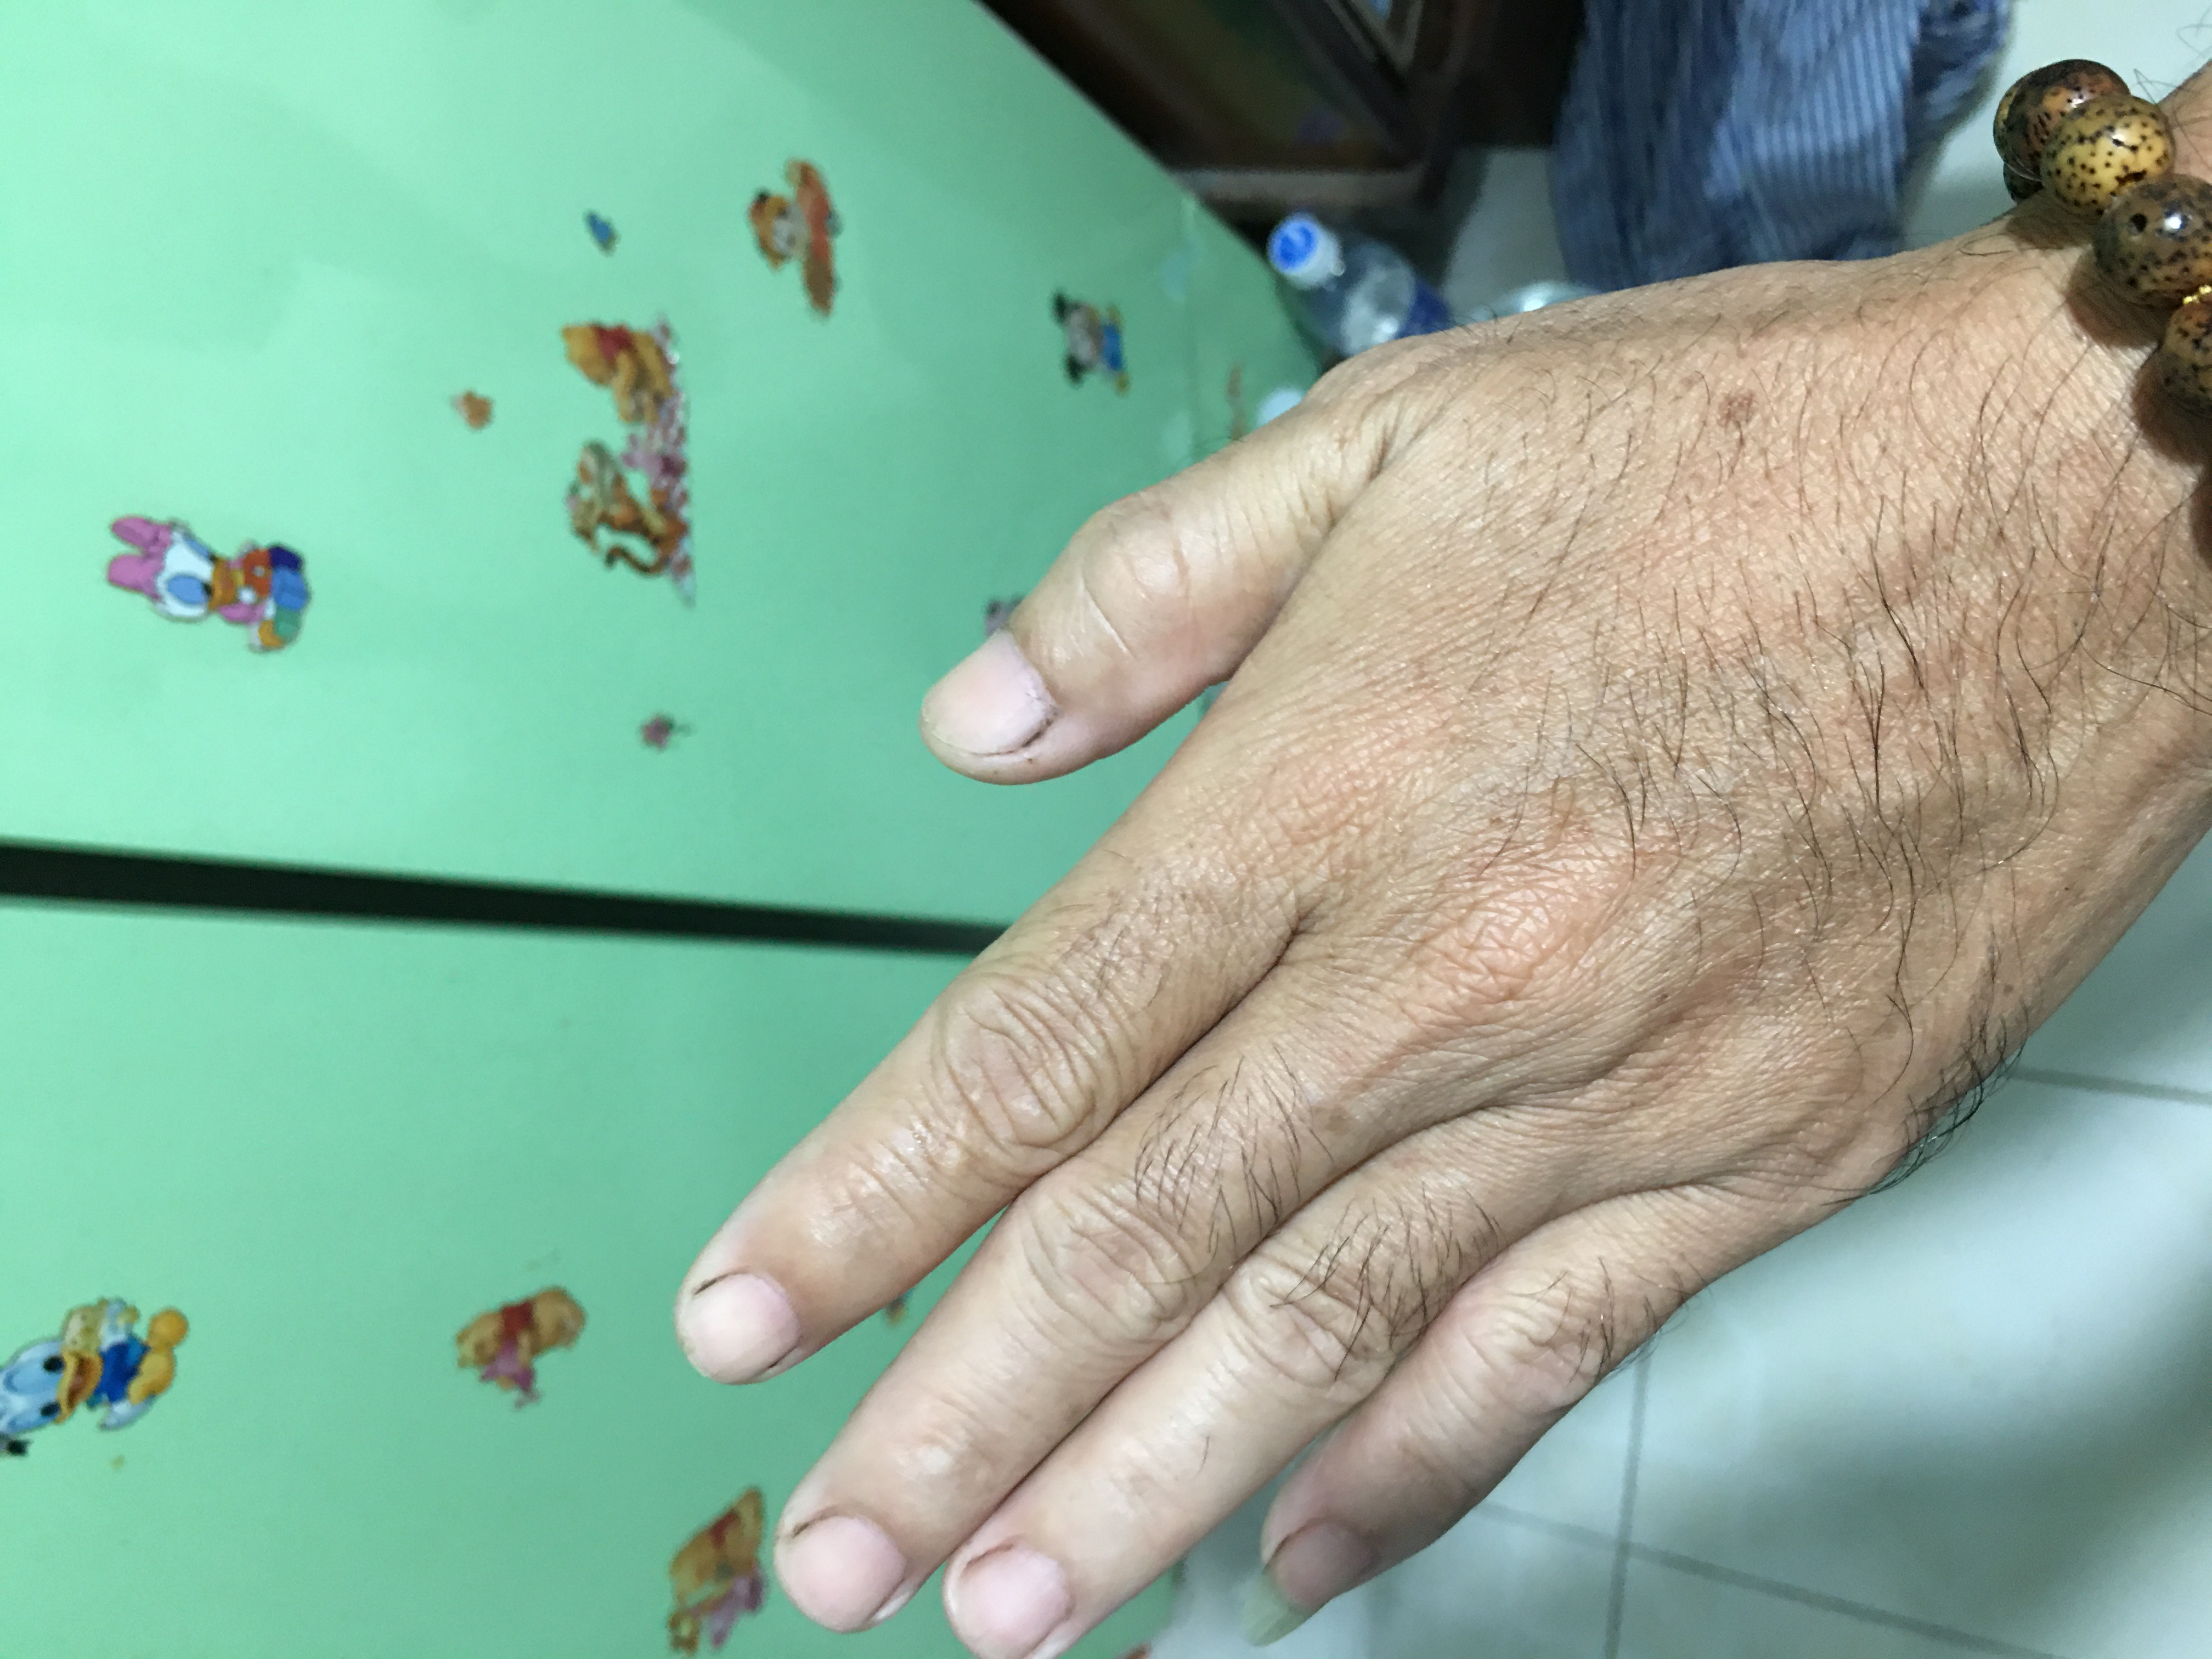nails: (909, 620, 1061, 775), (765, 1492, 921, 1636), (672, 1256, 806, 1389), (949, 1530, 1075, 1659), (1259, 1493, 1381, 1617)
